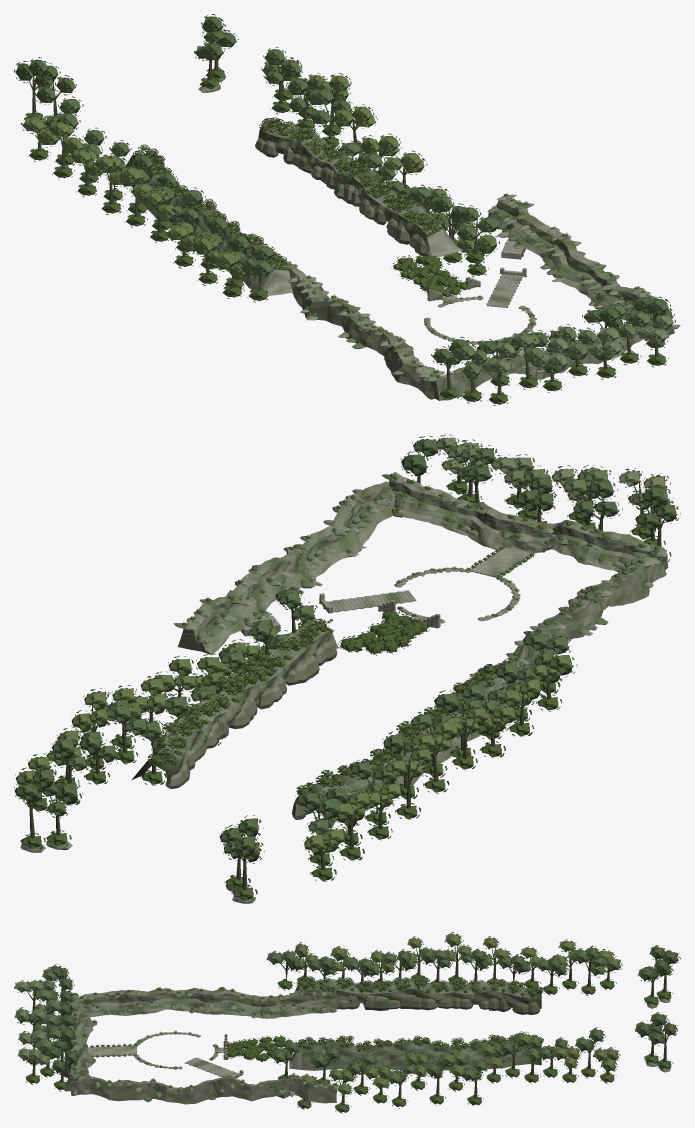
File: hub-boundaries.glb
The picture shows the model from 3 angles, top to bottom: view 1: azimuth 30°, elevation 25°; view 2: azimuth 150°, elevation 25°; view 3: azimuth 270°, elevation 25°; orthographic projection. The views are drawn at different scales.
Visible parts, largest first — view 1: HubBoundary_Foliage, HubBoundary_Stone, HubBoundary_Wood; view 2: HubBoundary_Foliage, HubBoundary_Stone, HubBoundary_Wood; view 3: HubBoundary_Foliage, HubBoundary_Stone, HubBoundary_Wood.
Boxes of the visible parts, x1=… form: HubBoundary_Foliage: x1=14, y1=14, x2=675, y2=405; HubBoundary_Stone: x1=126, y1=76, x2=680, y2=400; HubBoundary_Wood: x1=28, y1=40, x2=658, y2=395; HubBoundary_Foliage: x1=14, y1=434, x2=680, y2=900; HubBoundary_Stone: x1=20, y1=472, x2=668, y2=903; HubBoundary_Wood: x1=28, y1=453, x2=664, y2=890; HubBoundary_Foliage: x1=14, y1=932, x2=680, y2=1113; HubBoundary_Stone: x1=59, y1=978, x2=670, y2=1104; HubBoundary_Wood: x1=27, y1=945, x2=668, y2=1105.
Size of what is drawn, in the model's own units: 92.67 by 29.8 by 211.
